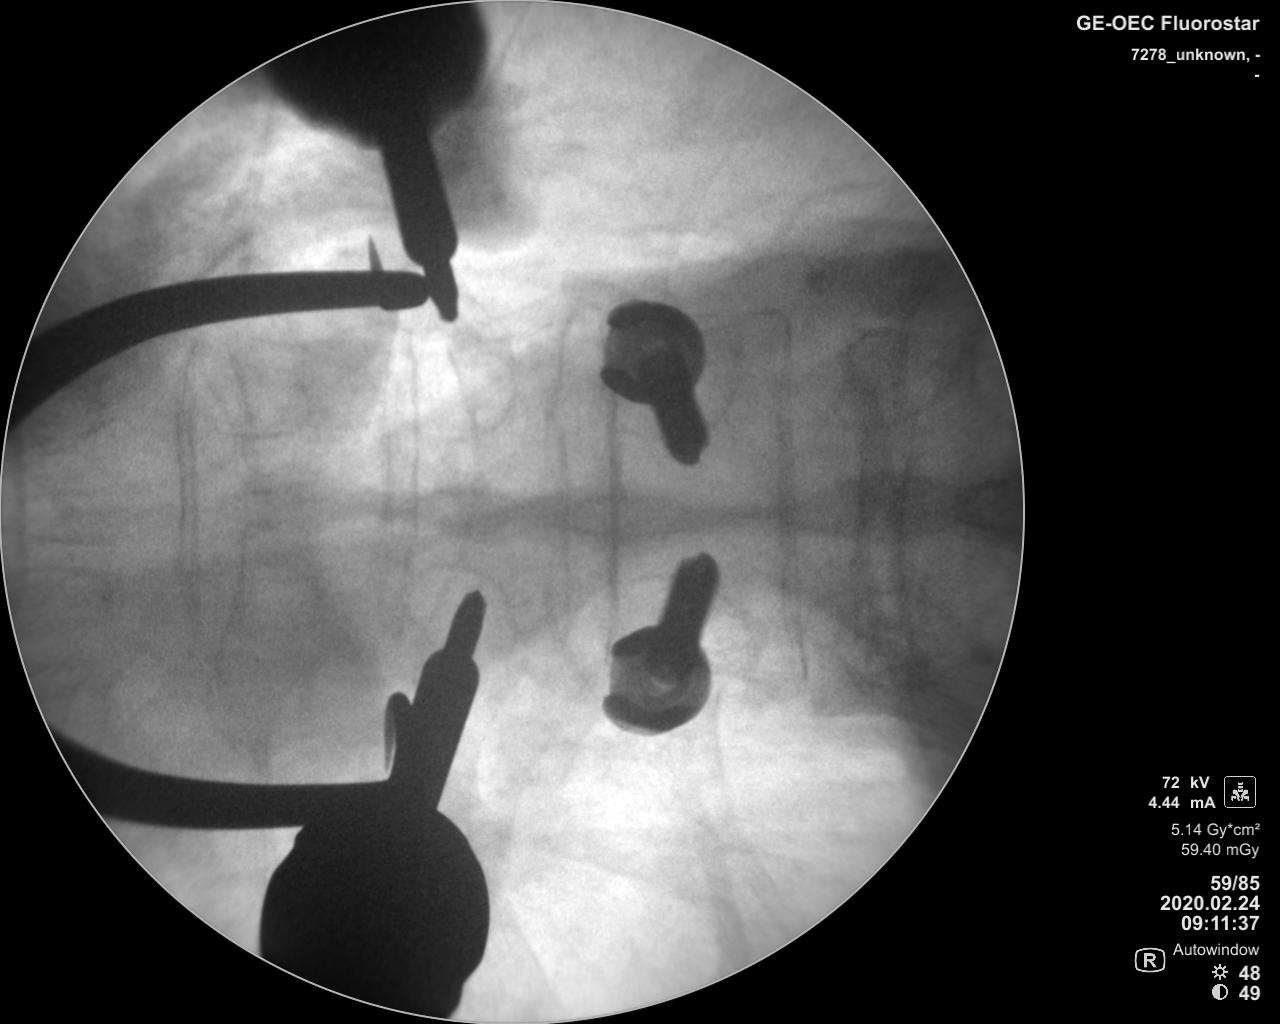eyes: (600, 575, 762, 667), (385, 330, 518, 437), (399, 566, 526, 659), (197, 352, 320, 437), (219, 559, 319, 646)
line: (768, 319, 810, 675), (839, 346, 876, 654), (539, 377, 577, 642), (173, 357, 202, 641), (598, 406, 624, 624), (402, 338, 421, 612)
nose: (748, 470, 956, 544), (188, 475, 372, 530), (535, 489, 704, 543), (380, 483, 523, 534)
